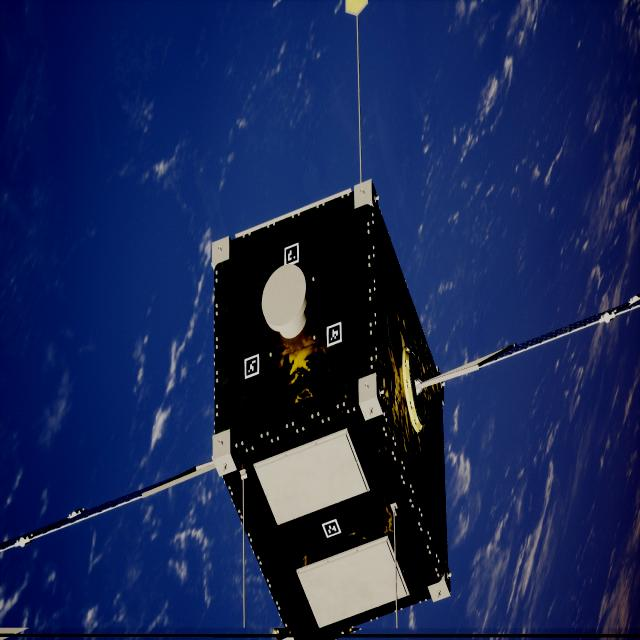satellite: (0, 180, 640, 640)
